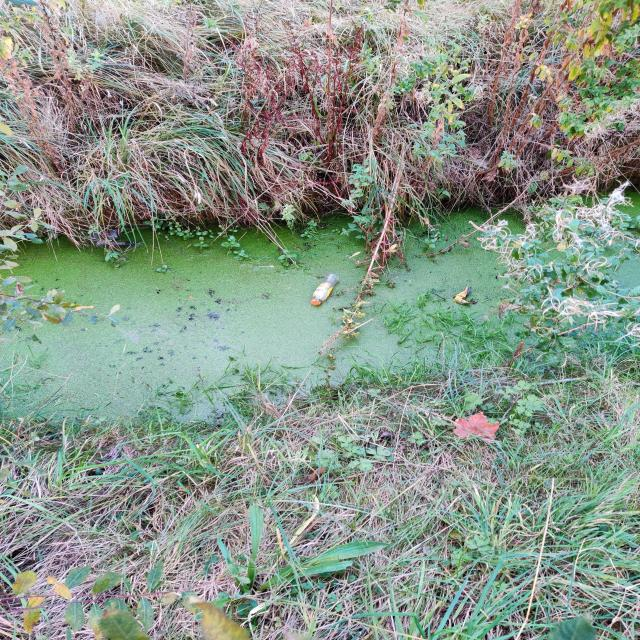litter: (311, 271, 343, 304)
